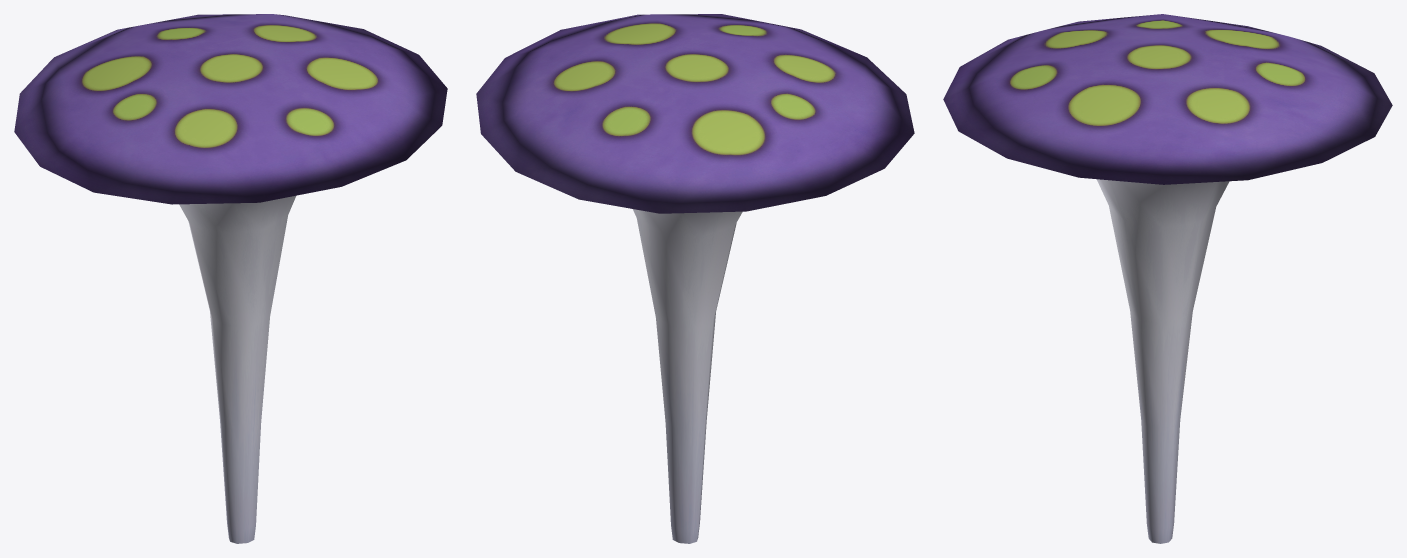
File: Mushroom_Straight3_Purple.fbx
3 views of the same model, side by side, from view 1: azimuth 30°, elevation 25°; view 2: azimuth 150°, elevation 25°; view 3: azimuth 270°, elevation 25° (orthographic).
Visible parts, largest first — view 1: Mesh; view 2: Mesh; view 3: Mesh.
Part boxes in pixels (bbox=[...]): Mesh: bbox=[14, 14, 447, 543]; Mesh: bbox=[476, 14, 914, 543]; Mesh: bbox=[943, 14, 1392, 543].
Size of the model in its own units: 164 by 197 by 167.
